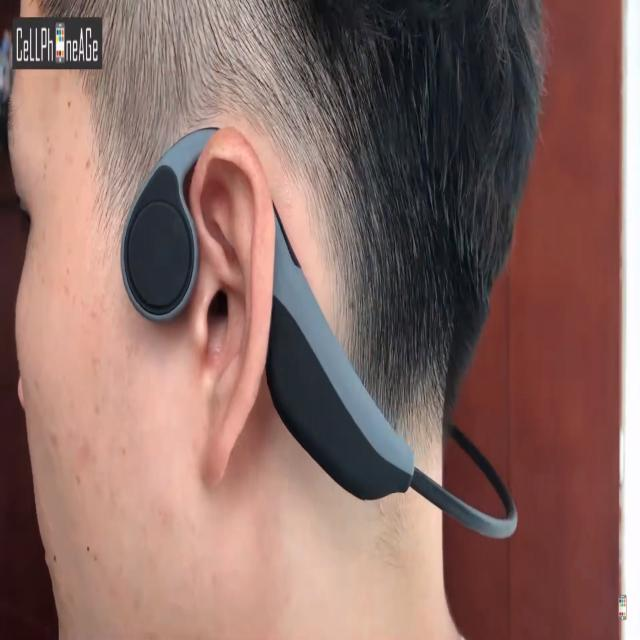Neckband: (120, 125, 519, 540)
